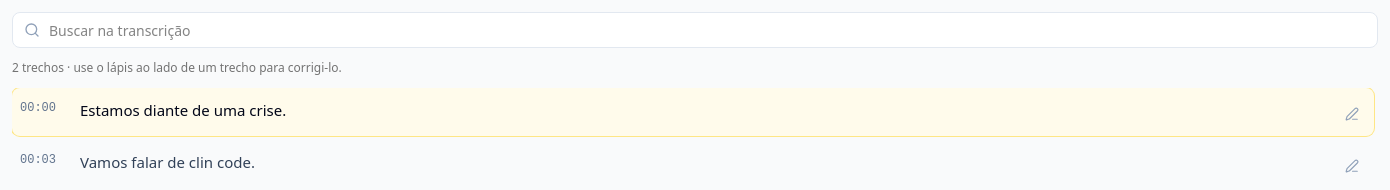
Test: InteractiveTranscriptionPanel › filters passages by a search that ignores accents
Type "CRÍSE" into the search field labelled "Buscar na transcrição" at [695, 30], box [12, 12, 1378, 48]
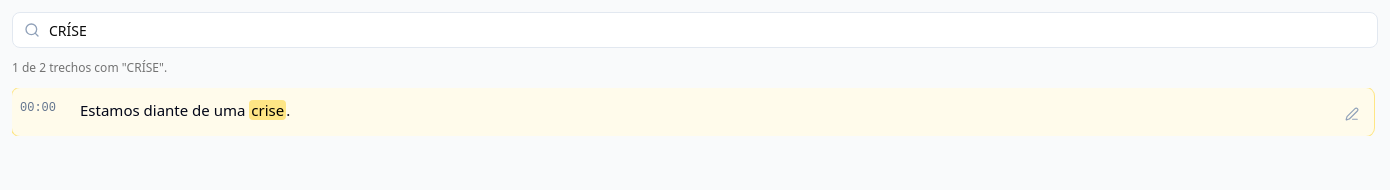
expect the text "1 de 2 trechos com \"CRÍSE\"." is shown: met, box [12, 59, 167, 76]
expect the text "Vamos falar de clin code." is gone: met
